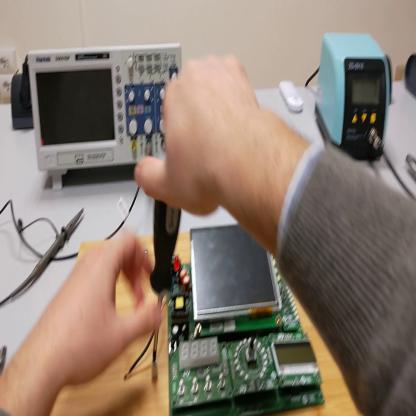hand: (134, 53, 268, 217), (45, 232, 165, 386)
low voltage board: (124, 228, 324, 412)
oscilloscope: (29, 47, 182, 191)
oscilloscope probe tip: (13, 212, 84, 303)
pliers: (405, 154, 415, 176), (1, 346, 8, 374)
screwdriver-: (151, 198, 181, 360)
socket: (13, 71, 36, 130), (405, 53, 416, 99), (385, 57, 393, 105)
welder station: (315, 36, 388, 165)
